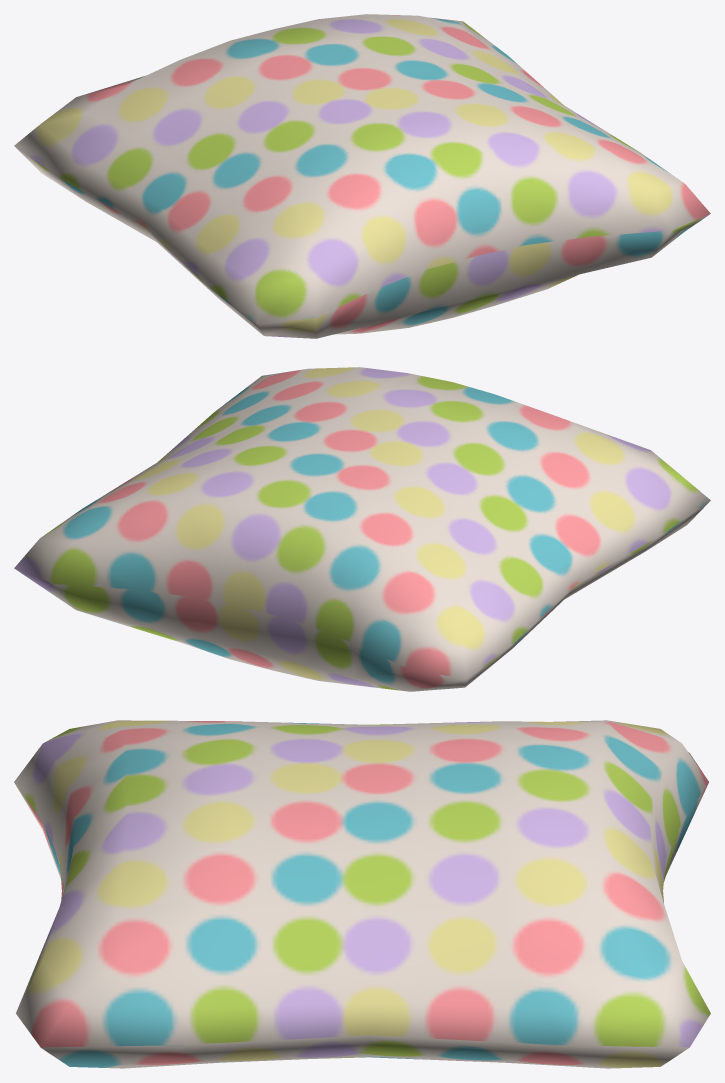
The model's file is almohadaChica.fbx.
The picture shows the model from 3 angles, top to bottom: view 1: azimuth 30°, elevation 25°; view 2: azimuth 150°, elevation 25°; view 3: azimuth 270°, elevation 25°; orthographic projection. The views are drawn at different scales.
Visible parts, largest first — view 1: almohadaLarga.001; view 2: almohadaLarga.001; view 3: almohadaLarga.001.
Part boxes in pixels (left/top/right/bottom): almohadaLarga.001: left=14, top=14, right=710, bottom=338; almohadaLarga.001: left=14, top=367, right=710, bottom=691; almohadaLarga.001: left=14, top=720, right=710, bottom=1068.
Bounding box in the file's own units: 40 × 15 × 40.
